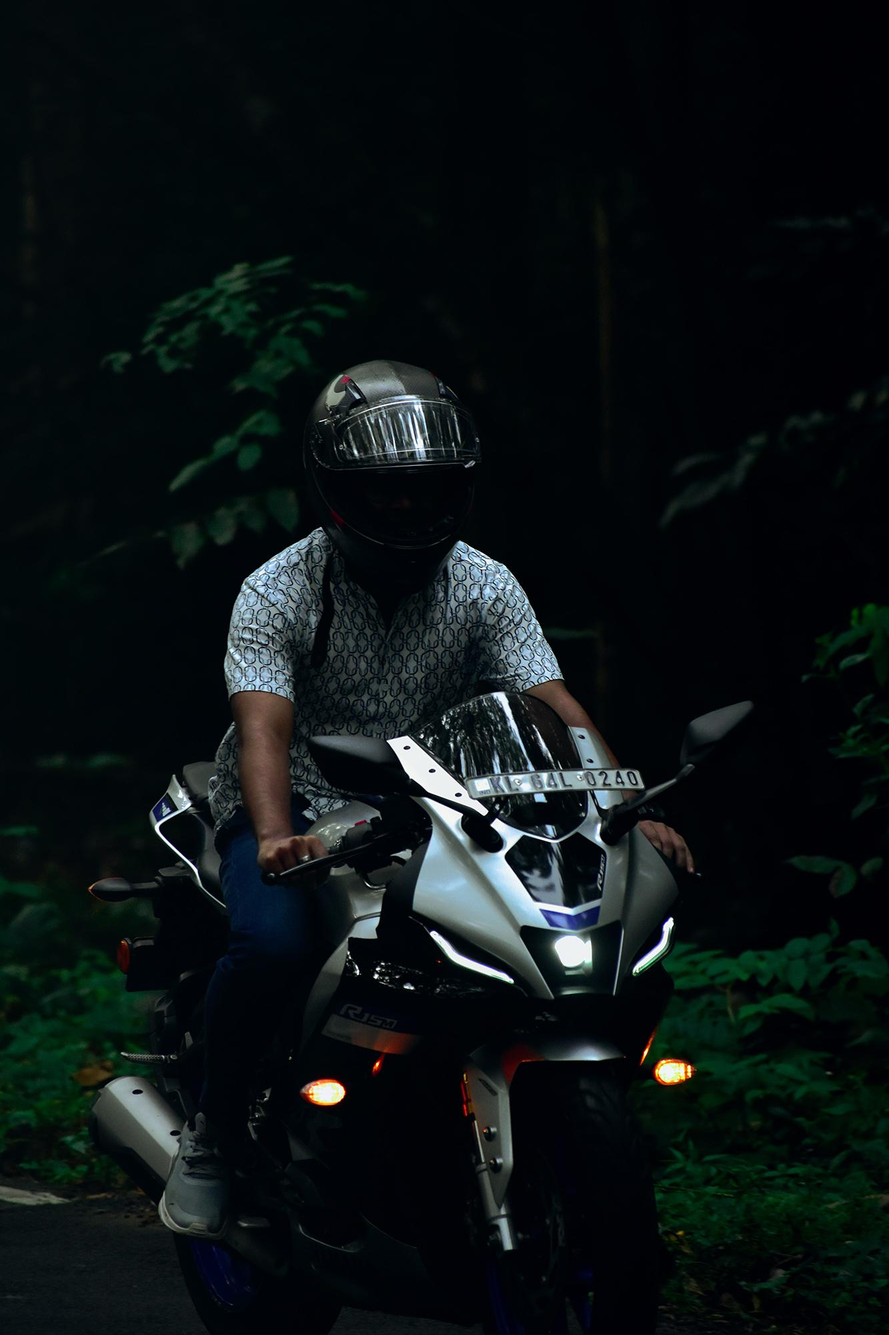helmet: (300, 358, 484, 598)
